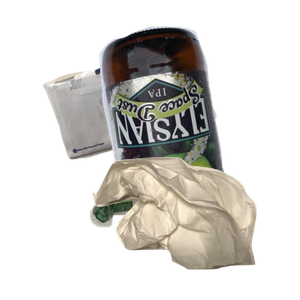glass: (97, 24, 300, 204)
paper: (40, 35, 249, 187)
plastic: (88, 182, 242, 300)
trash: (90, 155, 300, 300)
